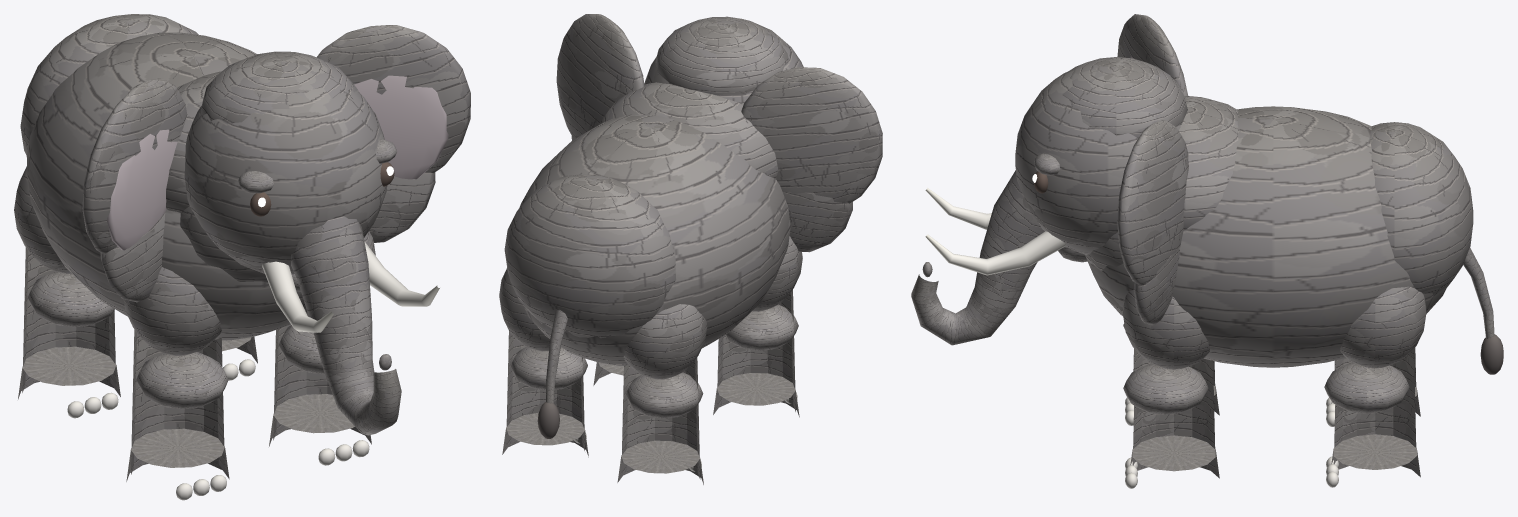
File: anime_elephant.glb
3 renders of one model, left to right at view 1: azimuth 30°, elevation 25°; view 2: azimuth 150°, elevation 25°; view 3: azimuth 270°, elevation 25°, orthographic. The views are drawn at different scales.
Parts seen in each view (by area): view 1: anime_elephant; view 2: anime_elephant; view 3: anime_elephant.
Part boxes in pixels (x1,y1,x2,y2): anime_elephant: (14, 14, 470, 500); anime_elephant: (499, 14, 882, 484); anime_elephant: (911, 14, 1503, 488).
Size of the model in its own units: 2.93 by 3.08 by 4.3.
Materials: 7 (1 with a texture image).
